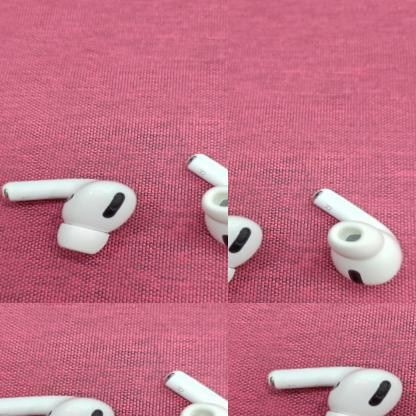Airpods: (49, 154, 222, 268), (240, 350, 416, 416), (228, 208, 324, 303), (0, 379, 129, 416), (158, 365, 228, 416)
